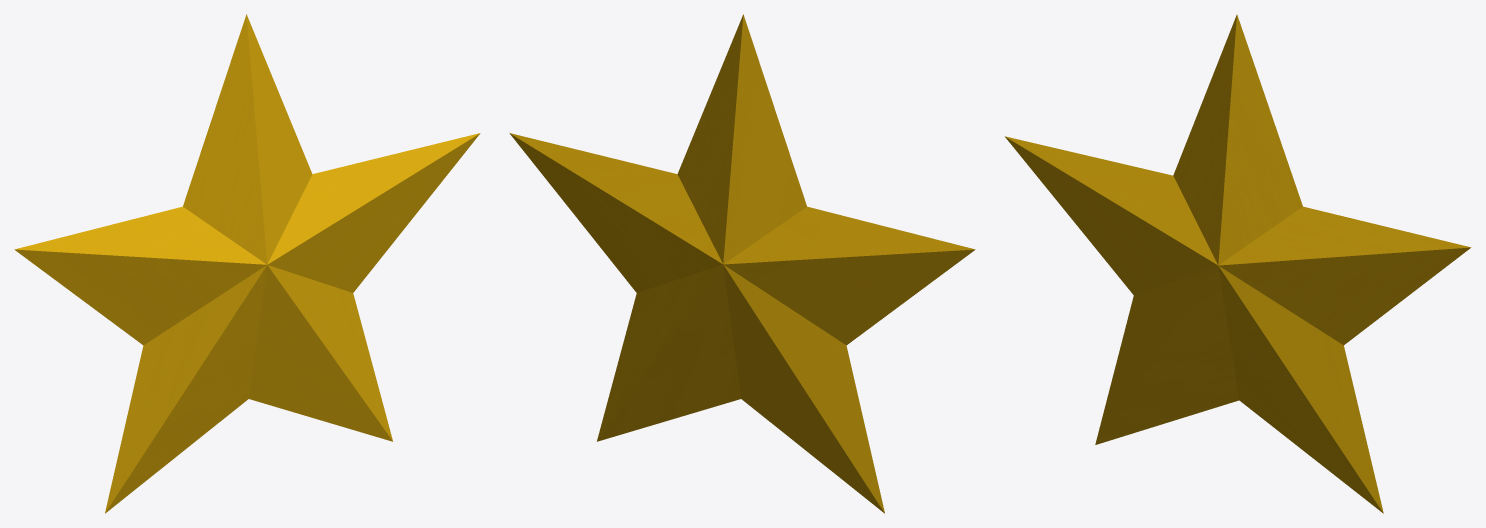
Rendered from Star.obj.
The picture shows the model from 3 angles, left to right: view 1: azimuth 30°, elevation 25°; view 2: azimuth 150°, elevation 25°; view 3: azimuth 330°, elevation 25°; orthographic projection.
Parts seen in each view (by area): view 1: estrellica; view 2: estrellica; view 3: estrellica.
Part boxes in pixels (bbox=[...]): estrellica: bbox=[14, 14, 480, 513]; estrellica: bbox=[509, 14, 975, 513]; estrellica: bbox=[1005, 14, 1471, 513].
Bounding box in the file's own units: 0.3141 × 0.2993 × 0.0454.
1 material, 1 textured.
